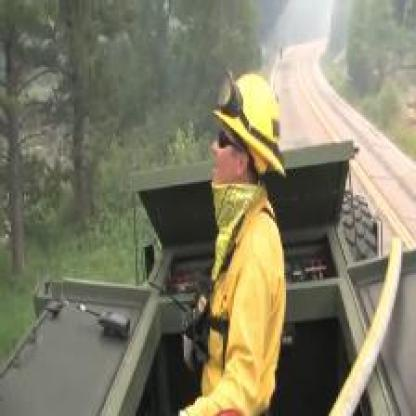other: (170, 53, 288, 407)
